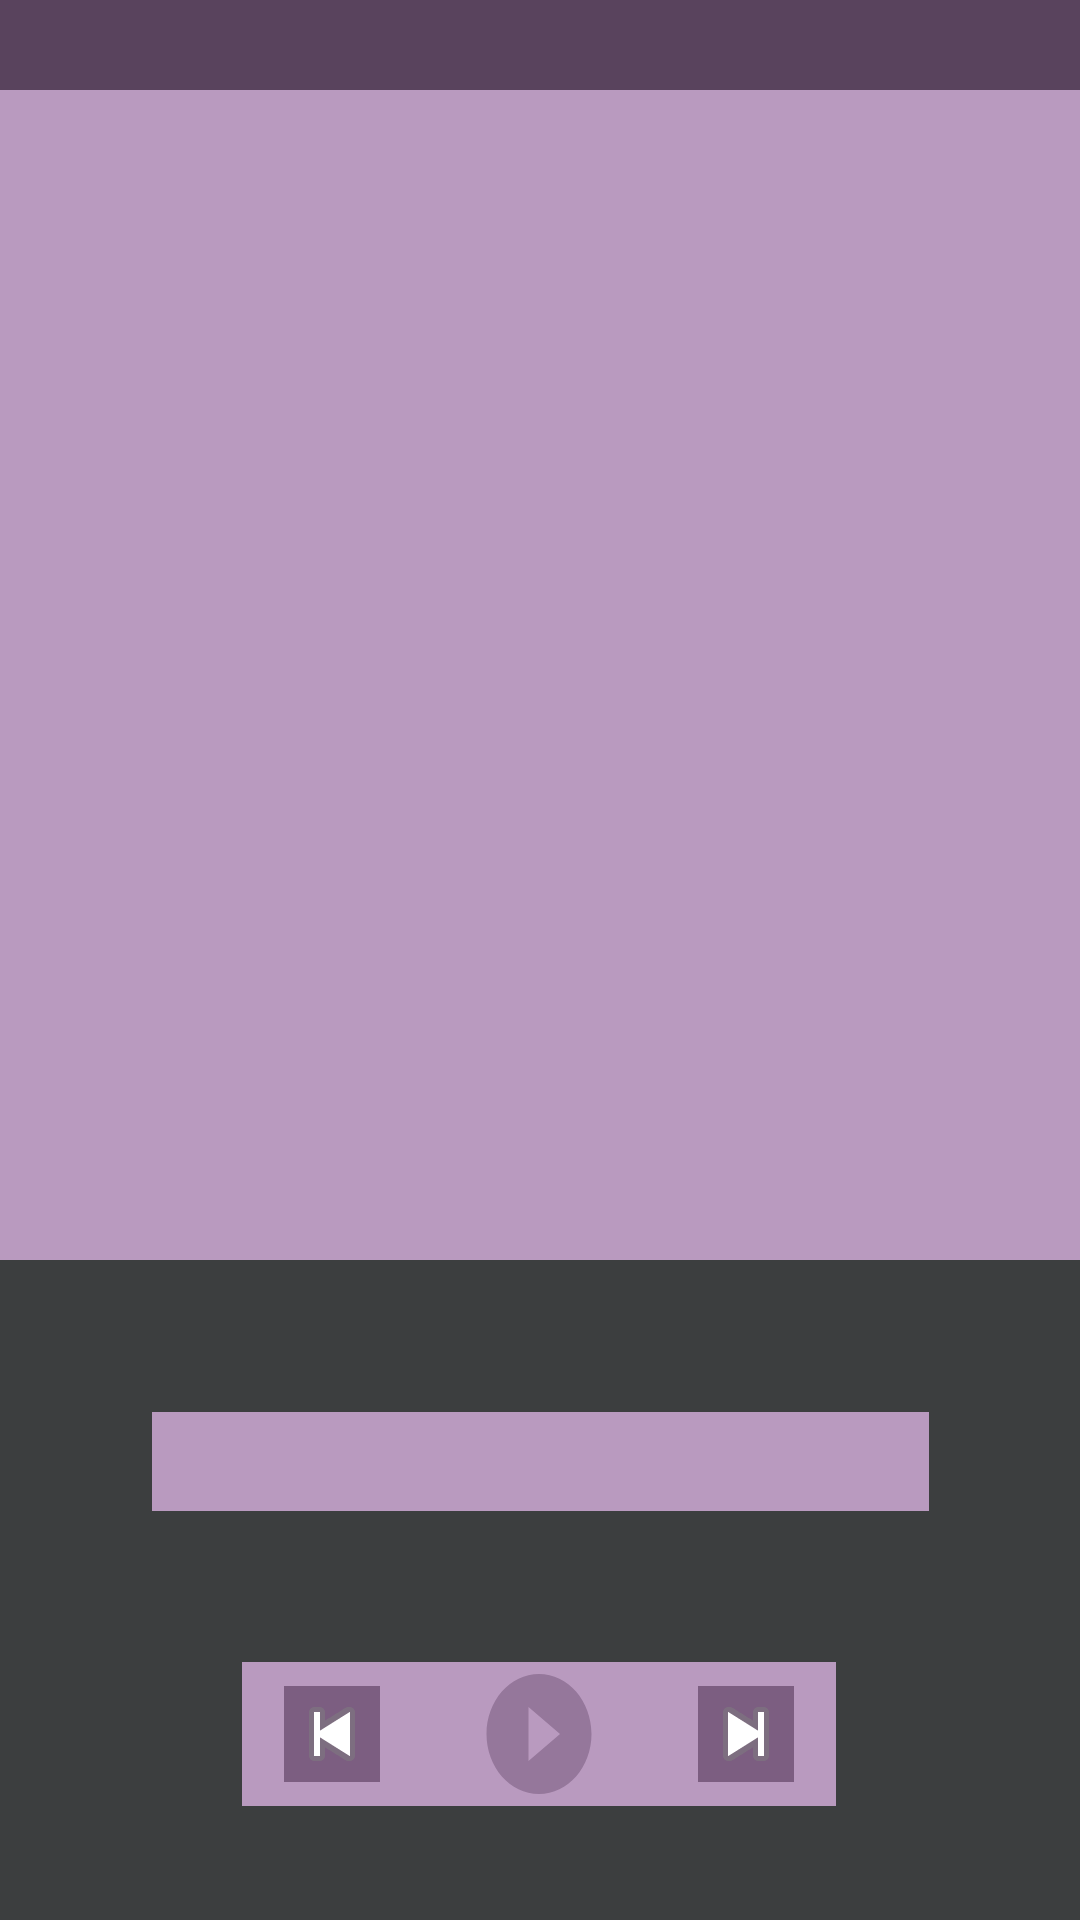

Where icons sit on this 1080px×1920px app screen, as (x1, y1, x2, y2):
next: (698, 1686, 794, 1782)
previous: (284, 1686, 380, 1782)
toggle play pause: (487, 1674, 591, 1794)
